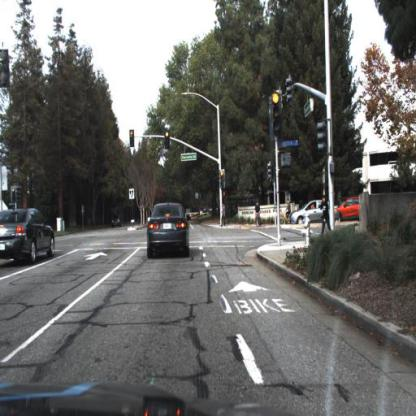biker: (276, 200, 297, 224), (251, 197, 263, 232), (283, 196, 293, 227), (254, 201, 262, 228)
car: (1, 208, 56, 265), (146, 201, 190, 254), (289, 200, 339, 225), (339, 195, 362, 226)
pedestrian: (320, 192, 330, 239), (321, 197, 332, 235), (220, 202, 227, 227)
trafficLight-Red: (272, 93, 283, 136), (273, 94, 281, 144), (8, 187, 19, 206), (164, 130, 172, 147), (220, 169, 226, 185), (12, 187, 17, 199)
trafficLight-RedLeft: (129, 130, 138, 147), (130, 130, 136, 144)
